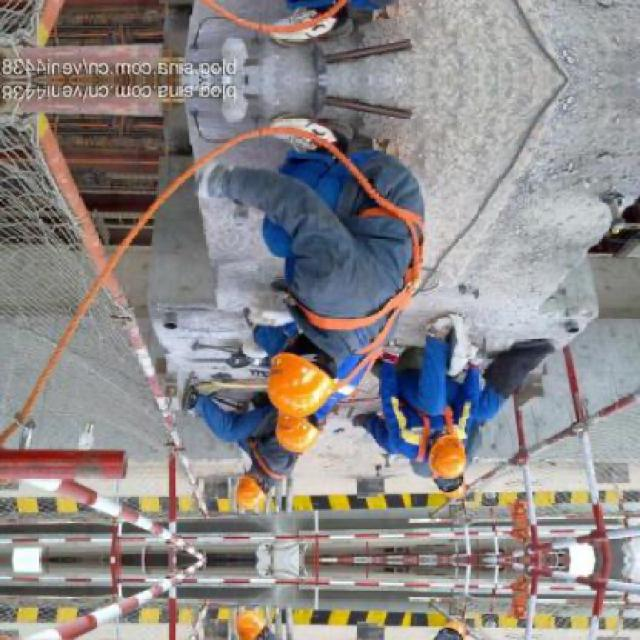con casco: (270, 309, 358, 426), (408, 403, 474, 505), (269, 379, 328, 464), (219, 440, 276, 522)
